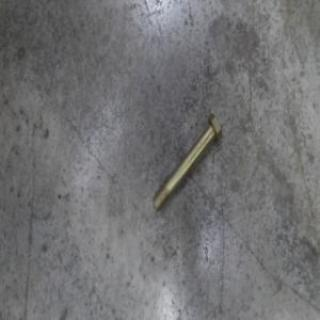Bolttrack_idkeyframe: (151, 110, 222, 212)
